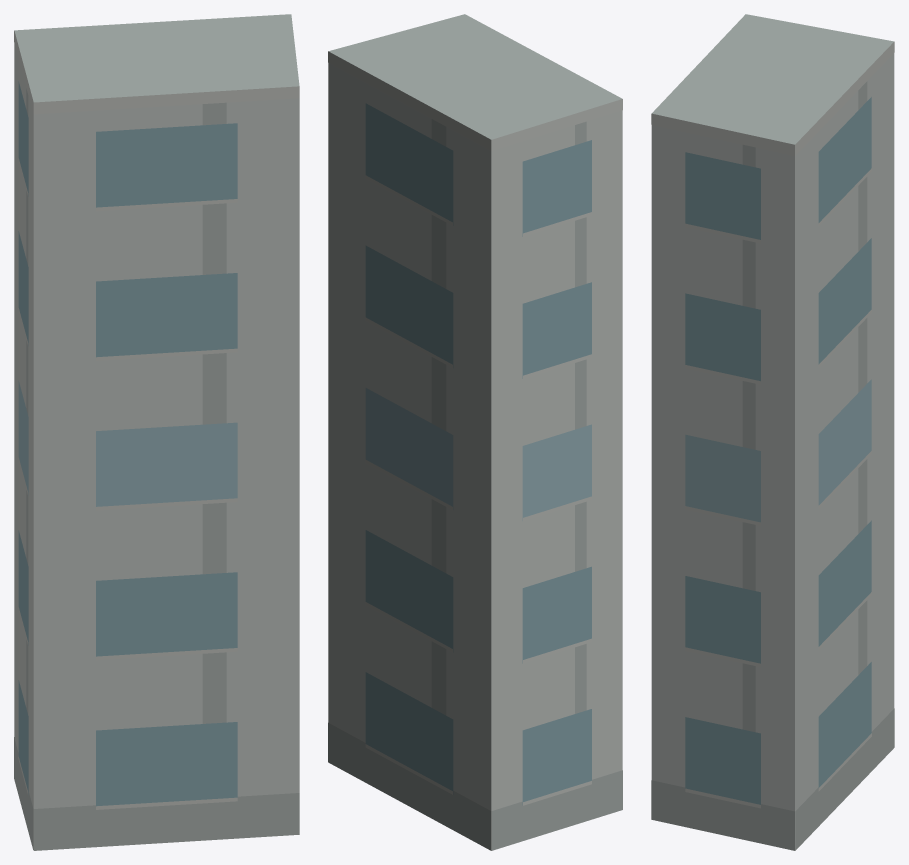
File: survey-upis-32820198.glb
3 views of the same model, side by side, from view 1: azimuth 30°, elevation 25°; view 2: azimuth 150°, elevation 25°; view 3: azimuth 270°, elevation 25° (orthographic). The views are drawn at different scales.
Visible parts, largest first — view 1: survey-upis-32820198.tmp; view 2: survey-upis-32820198.tmp; view 3: survey-upis-32820198.tmp.
Part boxes in pixels (x1,y1,x2,y2): survey-upis-32820198.tmp: (14,14,299,850); survey-upis-32820198.tmp: (328,14,622,850); survey-upis-32820198.tmp: (651,14,894,850).
Size of the model in its own units: 6.06 by 15.25 by 4.76.
